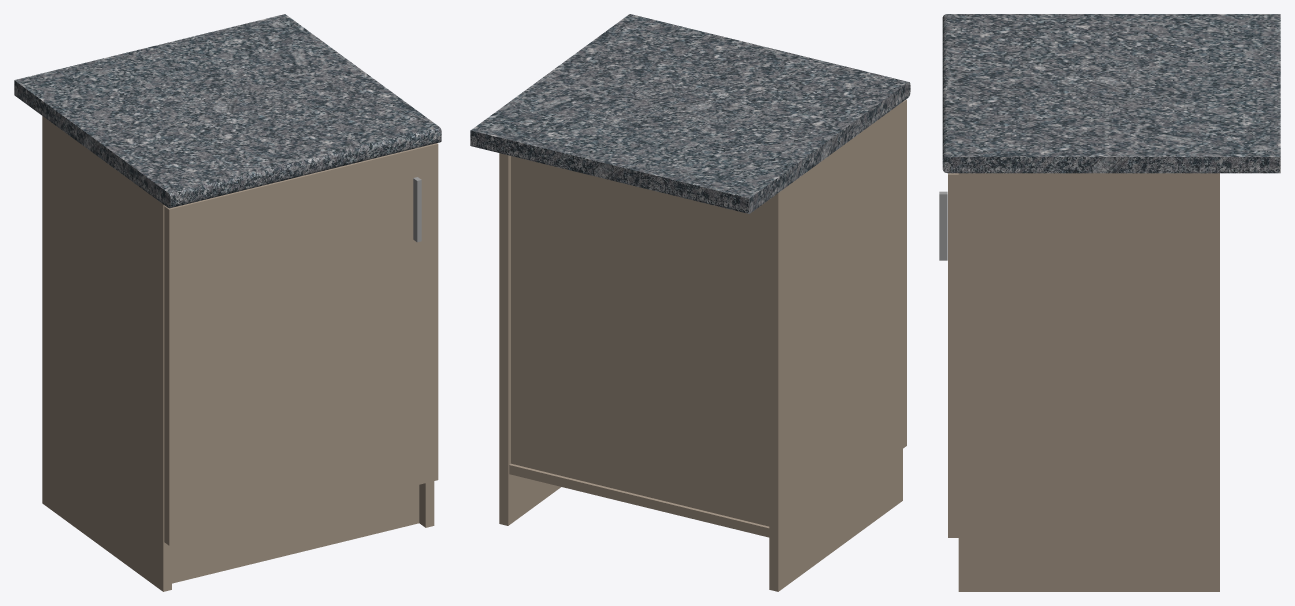
The model's file is szekreny_alap.glb.
3 views of the same model, side by side, from view 1: azimuth 30°, elevation 25°; view 2: azimuth 150°, elevation 25°; view 3: azimuth 270°, elevation 25° (orthographic). The views are drawn at different scales.
Parts seen in each view (by area): view 1: MESH_Ajto_Sima_Balos, MESH_Munkapult_Standard, MESH_Korpusz_Alap, MESH_Labazat_Standard, MESH_Fogantyu_hosszukas; view 2: MESH_Korpusz_Alap, MESH_Munkapult_Standard, MESH_Labazat_Standard, MESH_Ajto_Sima_Balos; view 3: MESH_Korpusz_Alap, MESH_Munkapult_Standard, MESH_Labazat_Standard, MESH_Ajto_Sima_Balos, MESH_Fogantyu_hosszukas.
Part boxes in pixels (x1=…): MESH_Ajto_Sima_Balos: x1=164, y1=143, x2=438, y2=545; MESH_Munkapult_Standard: x1=14, y1=14, x2=441, y2=208; MESH_Korpusz_Alap: x1=42, y1=116, x2=164, y2=542; MESH_Labazat_Standard: x1=42, y1=454, x2=434, y2=591; MESH_Fogantyu_hosszukas: x1=413, y1=177, x2=421, y2=242; MESH_Korpusz_Alap: x1=499, y1=102, x2=902, y2=540; MESH_Munkapult_Standard: x1=470, y1=14, x2=910, y2=213; MESH_Labazat_Standard: x1=499, y1=450, x2=902, y2=591; MESH_Ajto_Sima_Balos: x1=903, y1=99, x2=906, y2=448; MESH_Korpusz_Alap: x1=958, y1=173, x2=1219, y2=538; MESH_Munkapult_Standard: x1=942, y1=14, x2=1280, y2=173; MESH_Labazat_Standard: x1=958, y1=538, x2=1219, y2=591; MESH_Ajto_Sima_Balos: x1=948, y1=173, x2=958, y2=537; MESH_Fogantyu_hosszukas: x1=939, y1=191, x2=947, y2=260.
Bounding box in the file's own units: 0.6 × 0.852 × 0.6056.
Materials: 4 (1 with a texture image).
